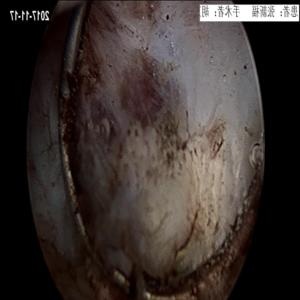film: (108, 44, 210, 184)
